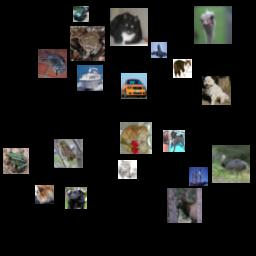airplane: (151, 42, 167, 58)
automobile: (121, 73, 147, 99), (73, 6, 89, 22)
bird: (194, 6, 232, 44), (212, 145, 250, 183), (54, 139, 83, 168)
cat: (110, 8, 148, 46), (120, 122, 152, 154), (38, 49, 67, 78), (173, 59, 192, 78), (118, 160, 137, 179)
deer: (167, 188, 202, 223)
dog: (202, 76, 231, 105), (65, 187, 87, 209), (163, 130, 185, 152), (35, 185, 54, 204)
frog: (70, 26, 105, 61), (3, 148, 29, 174)
ship: (77, 65, 103, 91), (189, 167, 208, 186)
